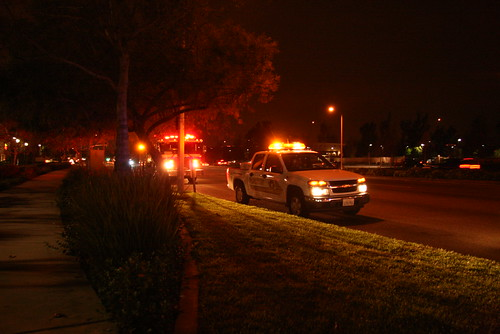firetruck: (156, 134, 203, 185)
grass: (180, 194, 500, 334)
police car: (224, 144, 374, 219)
sky: (250, 1, 500, 138)
street: (210, 165, 500, 251)
tree: (7, 11, 272, 170)
